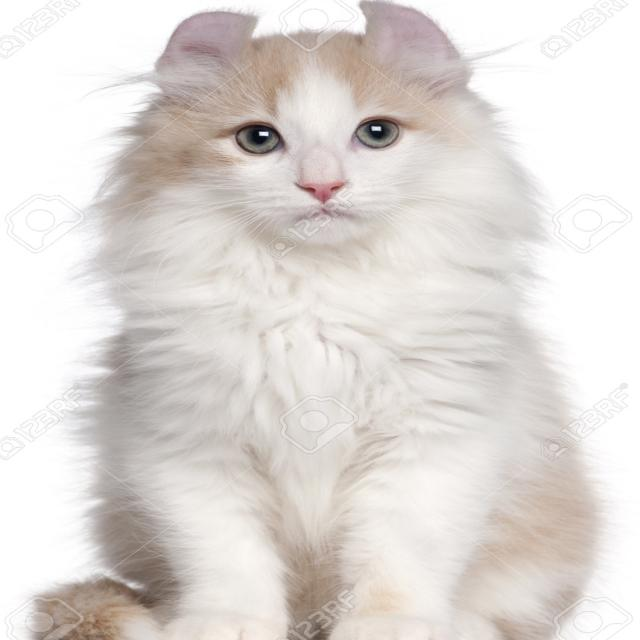American Curl: (17, 0, 610, 640)
